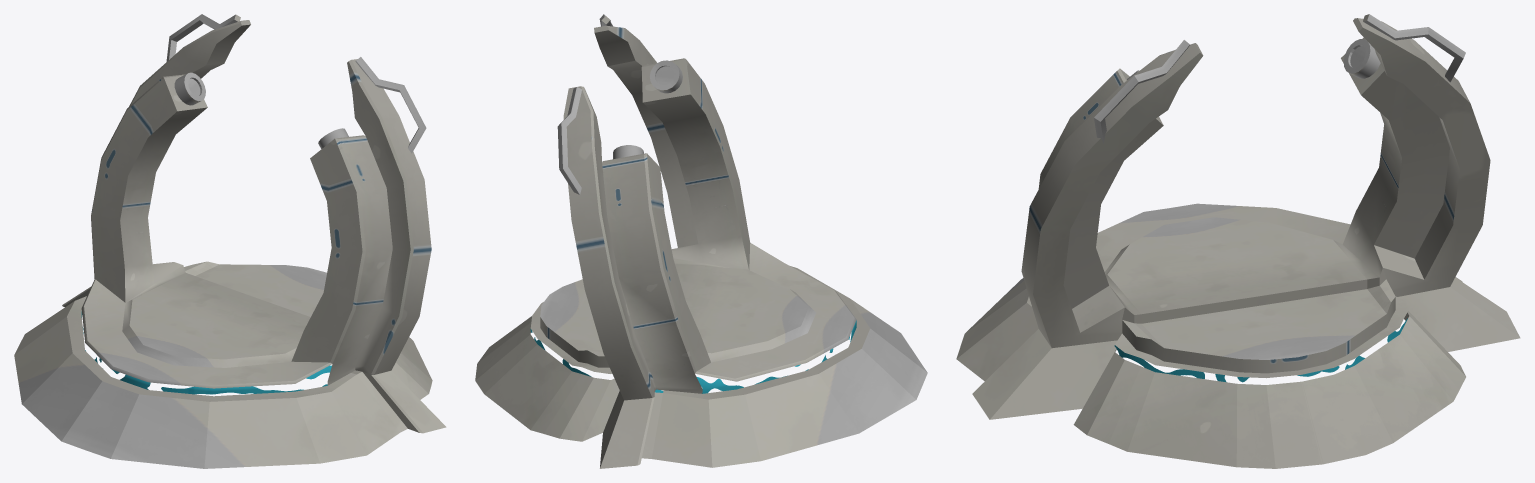
The model's file is S_Goal.fbx.
3 renders of one model, left to right at view 1: azimuth 30°, elevation 25°; view 2: azimuth 150°, elevation 25°; view 3: azimuth 270°, elevation 25°, orthographic. The views are drawn at different scales.
Parts seen in each view (by area): view 1: goal; view 2: goal; view 3: goal.
Part boxes in pixels (box(x1,y1,x2,y2)): goal: box(14, 14, 446, 468); goal: box(475, 14, 927, 468); goal: box(956, 14, 1520, 468).
Bounding box in the file's own units: 724 × 579 × 771.
Materials: 1 (1 with a texture image).
